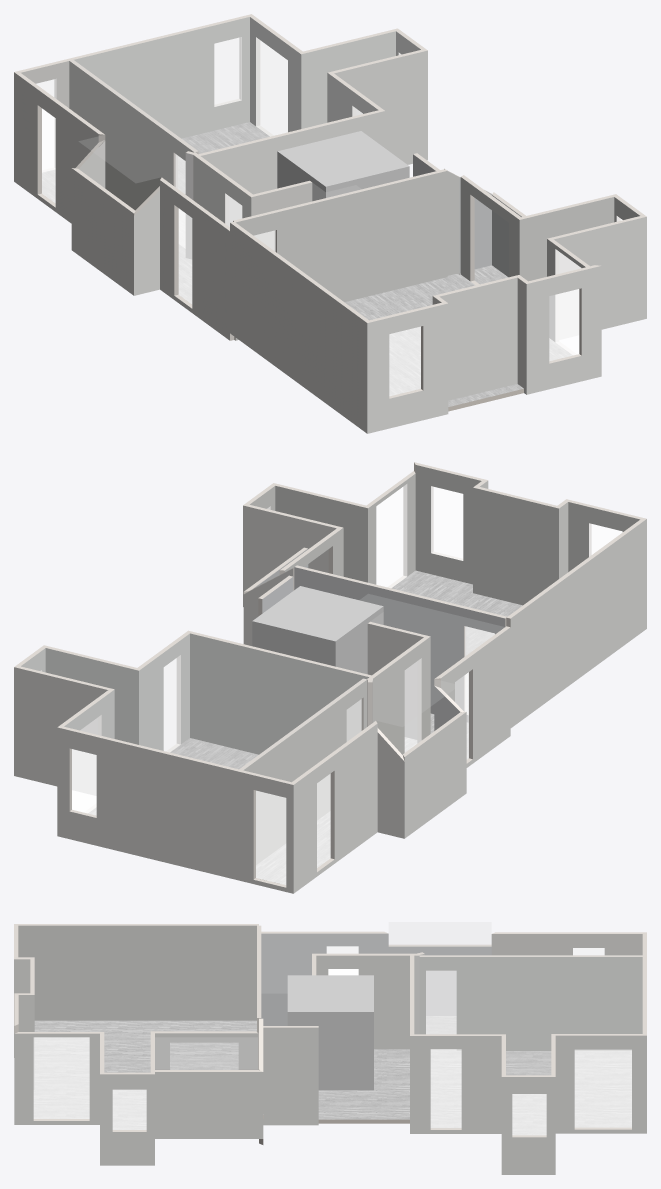
The model's file is house_scan_without_furniture.glb.
3 views of the same model, one above another, from view 1: azimuth 30°, elevation 25°; view 2: azimuth 150°, elevation 25°; view 3: azimuth 270°, elevation 25° (orthographic). The views are drawn at different scales.
Visible parts, largest first — view 1: ceiling_Bedroom_2, wall_26, wall_24.001, wall_0, ceiling_Other_0, wall_28, wall_9.001, wall_10.001, wall_11.001, wall_25.001, wall_5.001, Cube (+40 smaller); view 2: ceiling_Bedroom_2, wall_0.001, wall_24.001, wall_1, ceiling_Other_0, wall_9, wall_2.001, Cube, wall_26.001, wall_28, wall_32.001, wall_3.001 (+38 smaller); view 3: wall_24, ceiling_Bedroom_2, wall_28.001, floor_Bedroom_1, floor_Bedroom_2, ceiling_Other_0, Cube, wall_19.001, wall_7.001, wall_22.001, wall_25, wall_30.001 (+32 smaller).
Part boxes in pixels (x1=…): ceiling_Bedroom_2: x1=72, y1=17, x2=420, y2=153; wall_26: x1=235, y1=171, x2=447, y2=340; wall_24.001: x1=230, y1=223, x2=367, y2=433; wall_0: x1=74, y1=17, x2=249, y2=138; ceiling_Other_0: x1=22, y1=61, x2=249, y2=207; wall_28: x1=69, y1=61, x2=193, y2=210; wall_9.001: x1=439, y1=277, x2=517, y2=400; wall_10.001: x1=367, y1=303, x2=448, y2=433; wall_11.001: x1=526, y1=266, x2=601, y2=394; wall_25.001: x1=160, y1=180, x2=229, y2=340; wall_5.001: x1=554, y1=217, x2=646, y2=329; Cube: x1=277, y1=131, x2=409, y2=201; ceiling_Bedroom_2: x1=22, y1=634, x2=366, y2=768; wall_0.001: x1=57, y1=727, x2=238, y2=880; wall_24.001: x1=510, y1=519, x2=646, y2=727; wall_1: x1=190, y1=633, x2=368, y2=754; ceiling_Other_0: x1=242, y1=637, x2=475, y2=781; wall_9: x1=473, y1=487, x2=558, y2=605; wall_2.001: x1=293, y1=723, x2=377, y2=893; Cube: x1=252, y1=586, x2=383, y2=674; wall_26.001: x1=294, y1=567, x2=505, y2=722; wall_28: x1=243, y1=680, x2=367, y2=864; wall_32.001: x1=14, y1=667, x2=107, y2=786; wall_3.001: x1=404, y1=712, x2=466, y2=838; wall_24: x1=18, y1=925, x2=256, y2=1020; ceiling_Bedroom_2: x1=415, y1=956, x2=641, y2=1074; wall_28.001: x1=419, y1=957, x2=642, y2=1050; floor_Bedroom_1: x1=34, y1=1020, x2=256, y2=1129; floor_Bedroom_2: x1=431, y1=1050, x2=631, y2=1134; ceiling_Other_0: x1=312, y1=922, x2=641, y2=955; Cube: x1=287, y1=975, x2=373, y2=1090; wall_19.001: x1=155, y1=1072, x2=263, y2=1138; wall_7.001: x1=410, y1=1036, x2=501, y2=1133; wall_22.001: x1=263, y1=1027, x2=318, y2=1125; wall_25: x1=261, y1=933, x2=388, y2=1025; wall_30.001: x1=316, y1=955, x2=419, y2=1049.
Bounding box in the file's own units: 8.58 × 2.7 × 14.65.
Materials: 82 (9 with a texture image).
